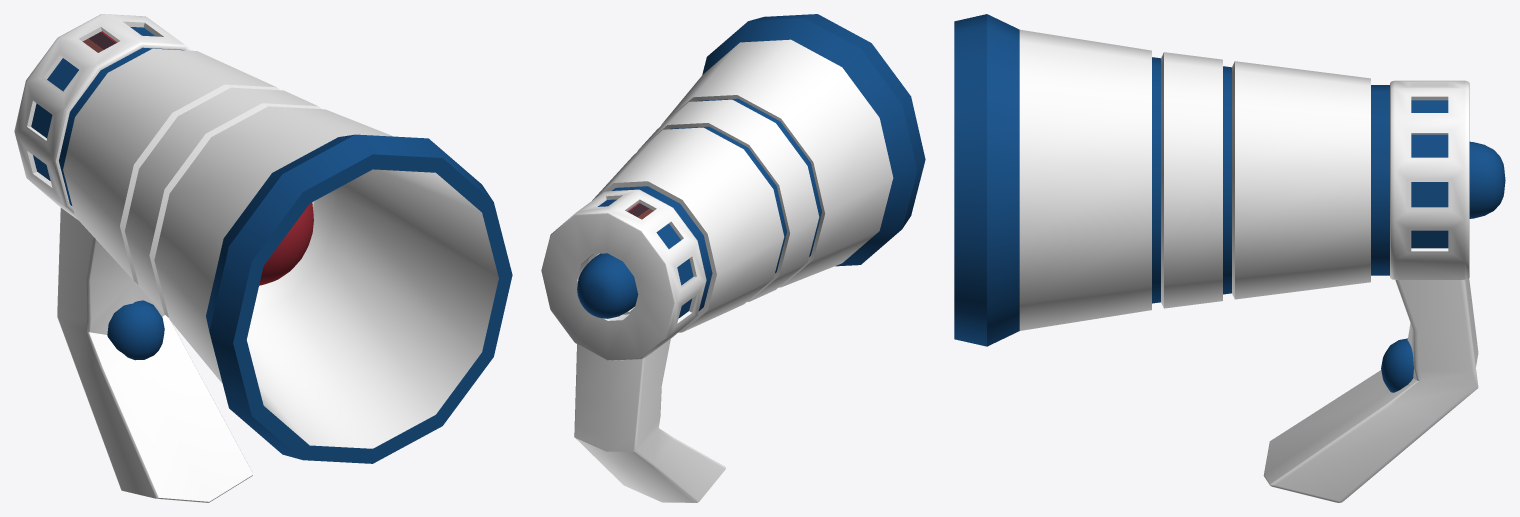
File: megafono_unMaterial.fbx
3 views of the same model, side by side, from view 1: azimuth 30°, elevation 25°; view 2: azimuth 150°, elevation 25°; view 3: azimuth 270°, elevation 25° (orthographic). The views are drawn at different scales.
Visible parts, largest first — view 1: Sphere.002; view 2: Sphere.002; view 3: Sphere.002.
Part boxes in pixels (<box>): Sphere.002: <box>14,14,512,502</box>; Sphere.002: <box>541,14,925,502</box>; Sphere.002: <box>954,14,1505,502</box>.
Bounding box in the file's own units: 30.05 × 48.47 × 51.87.
1 material, 1 textured.
